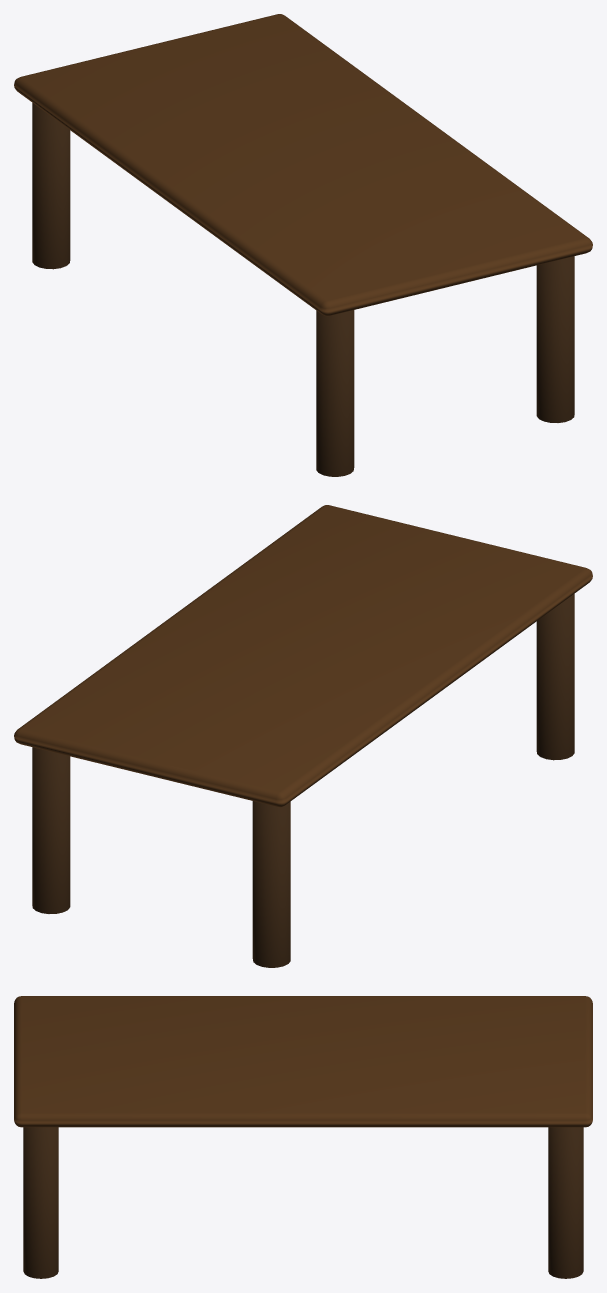
Rendered from DiningTable.glb.
3 renders of one model, top to bottom at view 1: azimuth 30°, elevation 25°; view 2: azimuth 150°, elevation 25°; view 3: azimuth 270°, elevation 25°, orthographic. The views are drawn at different scales.
Visible parts, largest first — view 1: dining_table; view 2: dining_table; view 3: dining_table.
Part boxes in pixels (<box>): dining_table: <box>14,14,592,476</box>; dining_table: <box>14,505,592,967</box>; dining_table: <box>14,996,592,1278</box>.
Bounding box in the file's own units: 16.39 × 10.39 × 32.69.
